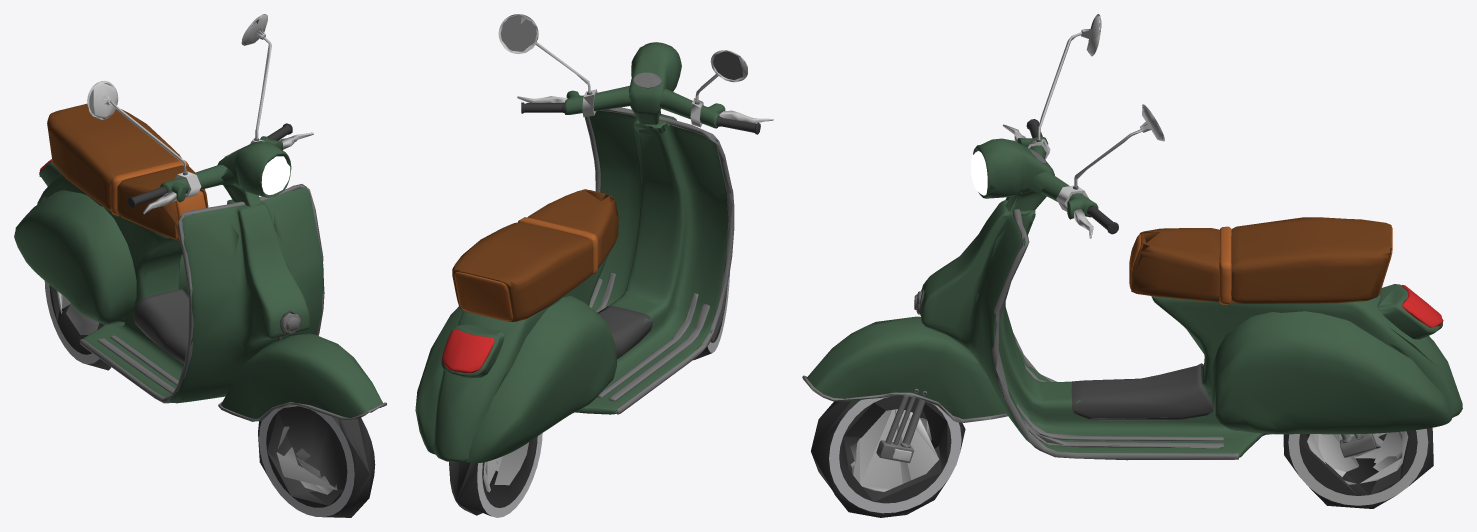
File: vespa.gltf
3 renders of one model, left to right at view 1: azimuth 30°, elevation 25°; view 2: azimuth 150°, elevation 25°; view 3: azimuth 270°, elevation 25°, orthographic. The views are drawn at different scales.
Visible parts, largest first — view 1: Body, Wheel_F, Wheel_R; view 2: Body, Wheel_R, Wheel_F; view 3: Body, Wheel_F, Wheel_R.
Boxes of the visible parts, left/top/right/bottom form: Body: left=14, top=14, right=386, bottom=421; Wheel_F: left=258, top=406, right=375, bottom=517; Wheel_R: left=44, top=281, right=111, bottom=370; Body: left=415, top=14, right=773, bottom=463; Wheel_R: left=449, top=433, right=542, bottom=517; Wheel_F: left=693, top=272, right=729, bottom=360; Body: left=802, top=14, right=1462, bottom=462; Wheel_F: left=811, top=395, right=965, bottom=517; Wheel_R: left=1283, top=428, right=1433, bottom=508.
Bounding box in the file's own units: 0.7642 × 1.3 × 1.77.
